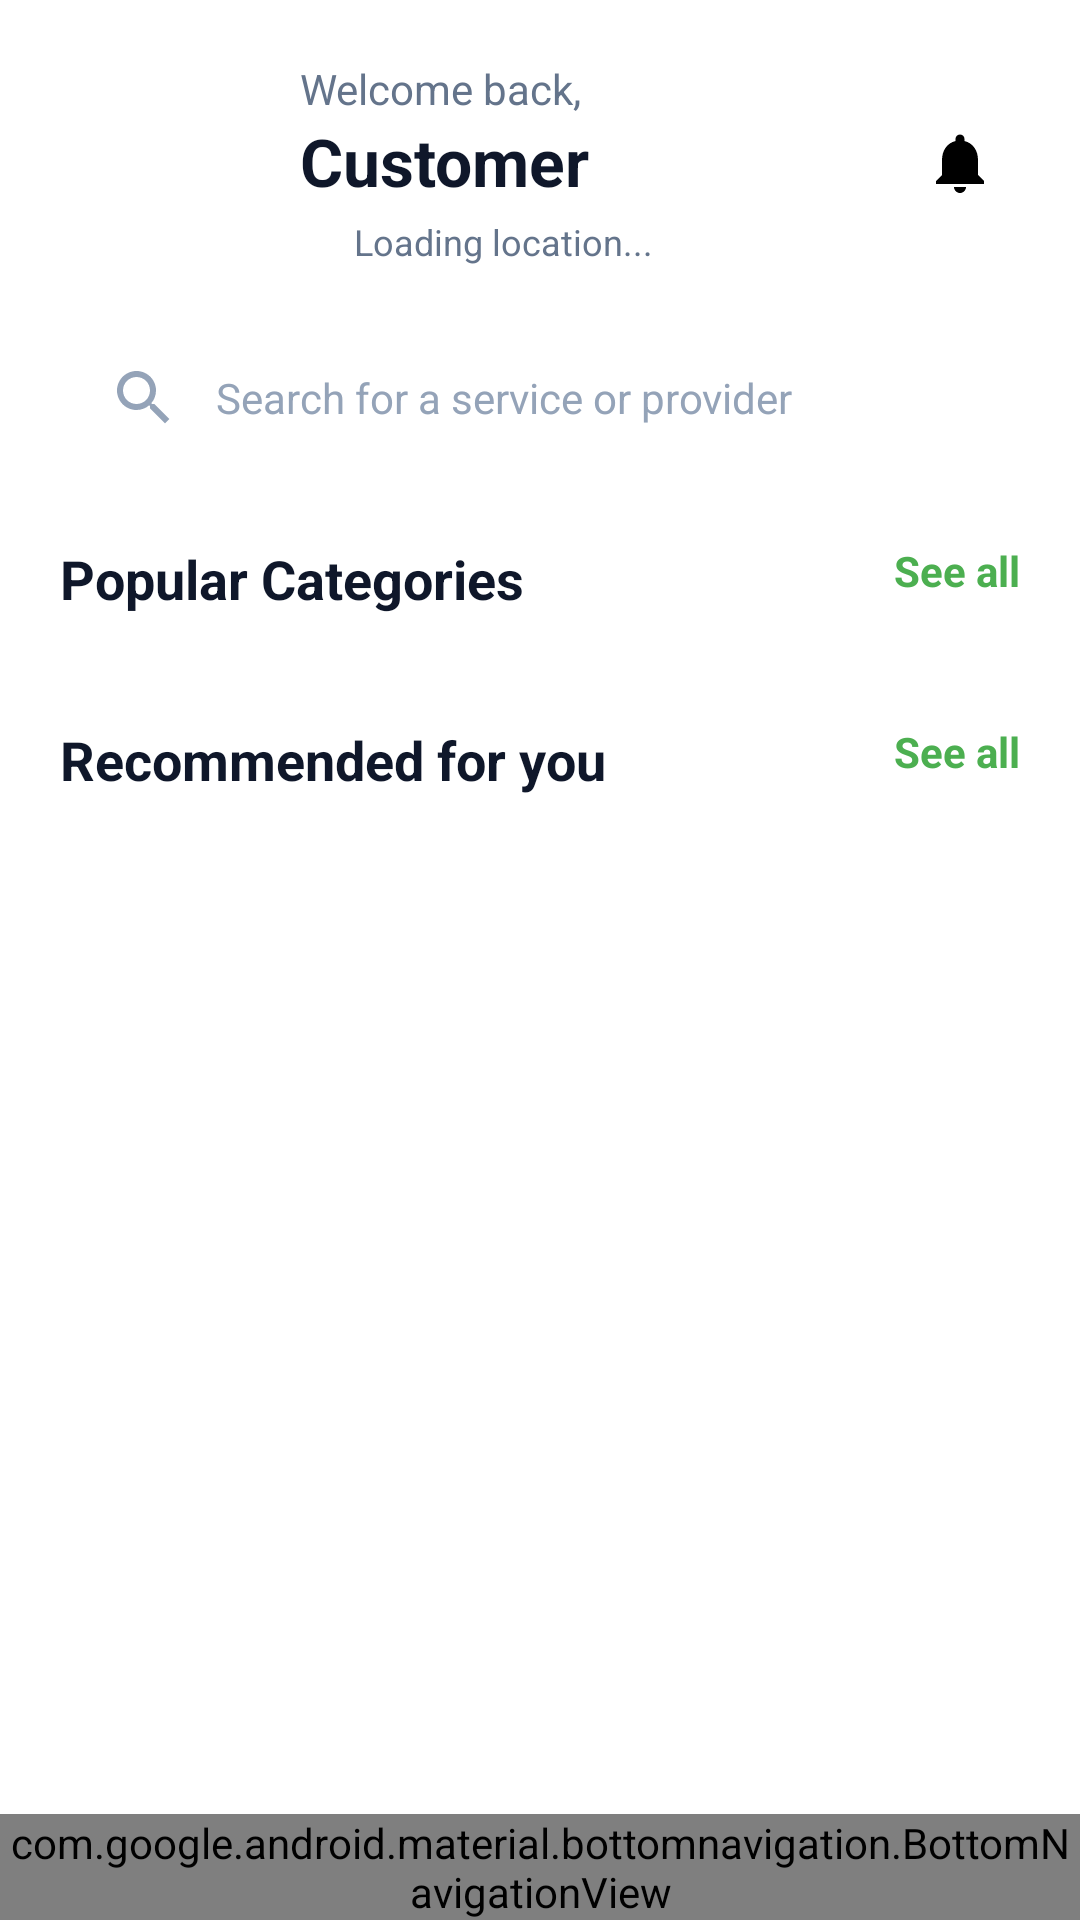

Screen size 1080×1920. Icon name, then its center in pixels as (x,y):
Notifications: (960,163)
